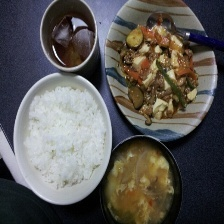rice: (19, 81, 109, 191)
